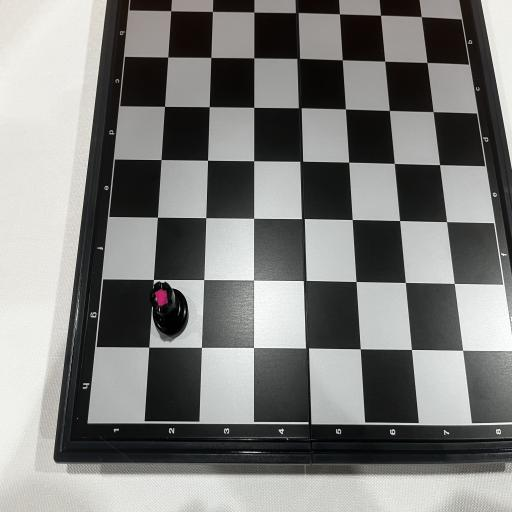Black rook: (150, 280, 189, 342)
